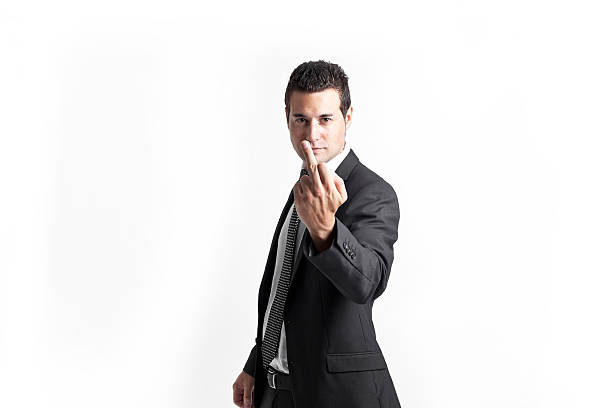insulting_gesture: (293, 140, 344, 221)
